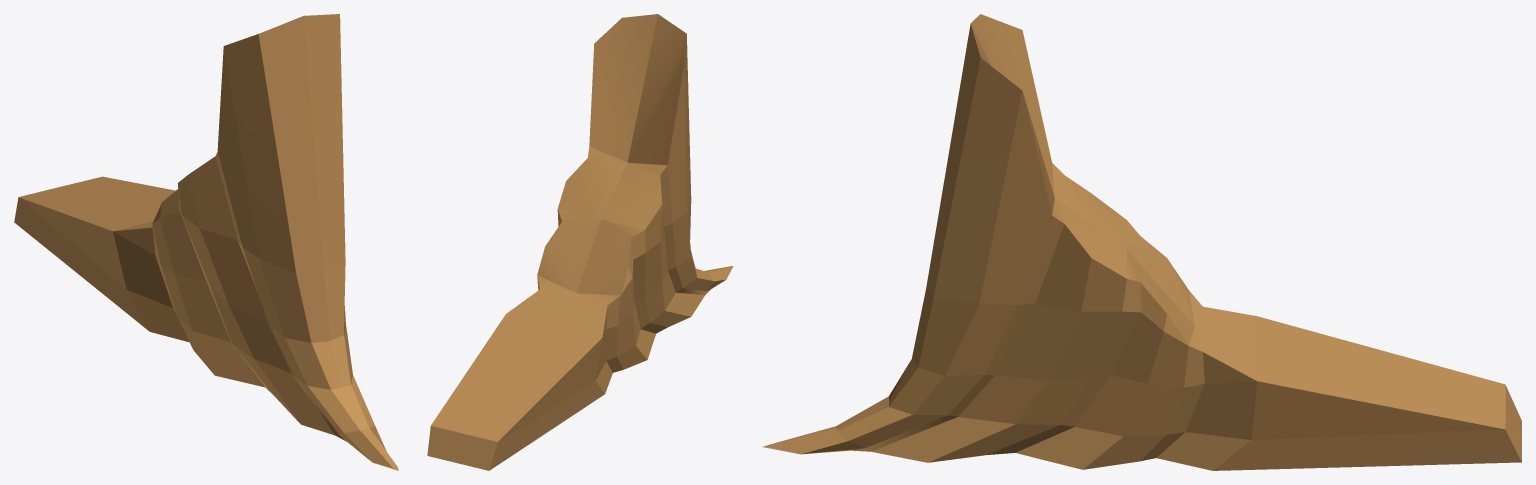
The model's file is SM_Veh_Ship_S_Ram_01.fbx.
3 views of the same model, side by side, from view 1: azimuth 30°, elevation 25°; view 2: azimuth 150°, elevation 25°; view 3: azimuth 270°, elevation 25° (orthographic). The views are drawn at different scales.
Parts seen in each view (by area): view 1: SM_Veh_Ship_S_Ram_01; view 2: SM_Veh_Ship_S_Ram_01; view 3: SM_Veh_Ship_S_Ram_01.
Part boxes in pixels (x1,y1,x2,y2): SM_Veh_Ship_S_Ram_01: [14, 14, 398, 470]; SM_Veh_Ship_S_Ram_01: [427, 14, 733, 470]; SM_Veh_Ship_S_Ram_01: [762, 14, 1521, 470].
Bounding box in the file's own units: 100 × 307 × 495.
